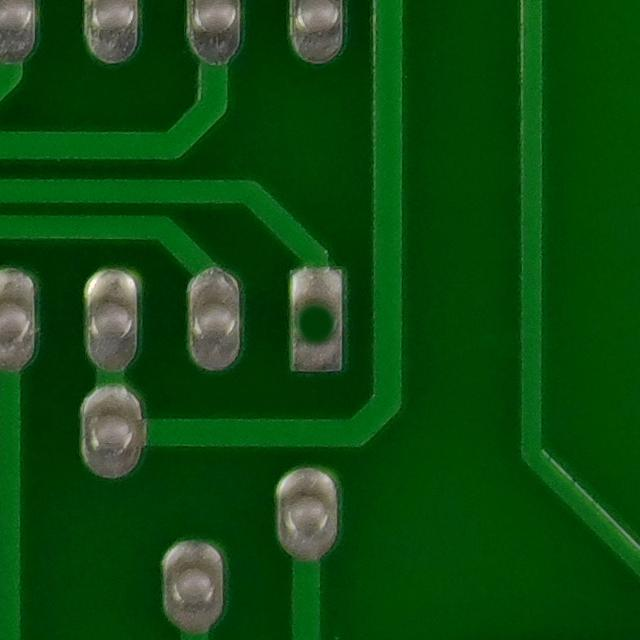missing_hole: (285, 274, 355, 367)
